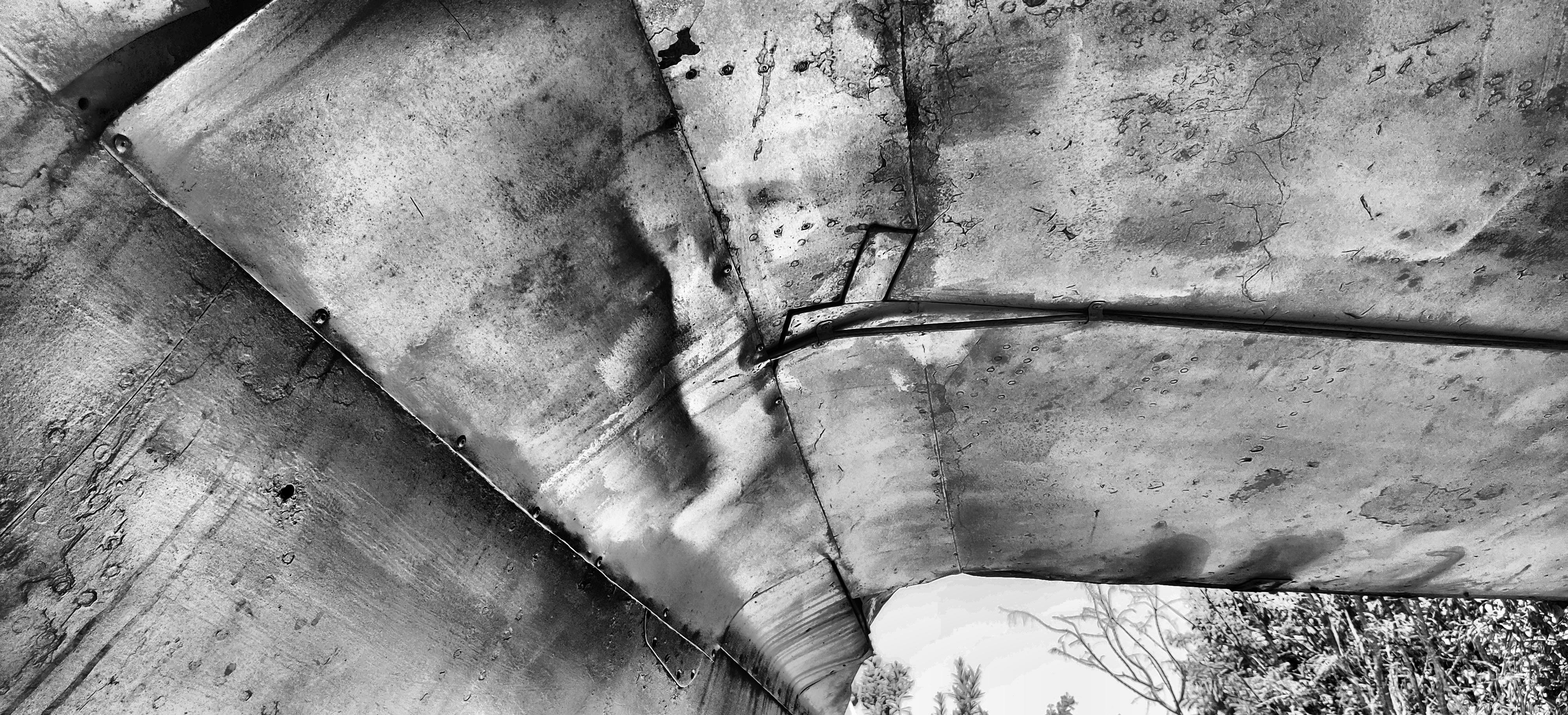crack: (649, 27, 672, 42)
dent: (617, 225, 713, 439), (1446, 182, 1532, 259), (666, 443, 737, 531), (744, 176, 818, 256), (1135, 532, 1212, 584), (1407, 550, 1466, 593), (759, 370, 802, 414), (963, 569, 1054, 581), (736, 327, 760, 372), (861, 596, 875, 633), (815, 549, 832, 565)
missing-head: (676, 669, 683, 681), (652, 637, 659, 648), (833, 294, 841, 302), (645, 611, 652, 619), (711, 648, 717, 657), (690, 670, 695, 680)
paint-peel-off: (815, 4, 885, 100), (1360, 480, 1475, 526), (659, 28, 701, 70), (1252, 468, 1286, 490), (306, 365, 333, 382), (906, 100, 921, 130), (1059, 227, 1078, 240), (1242, 458, 1252, 462)
scratch: (944, 338, 982, 386), (919, 193, 962, 233), (410, 196, 424, 219), (815, 427, 827, 449)
